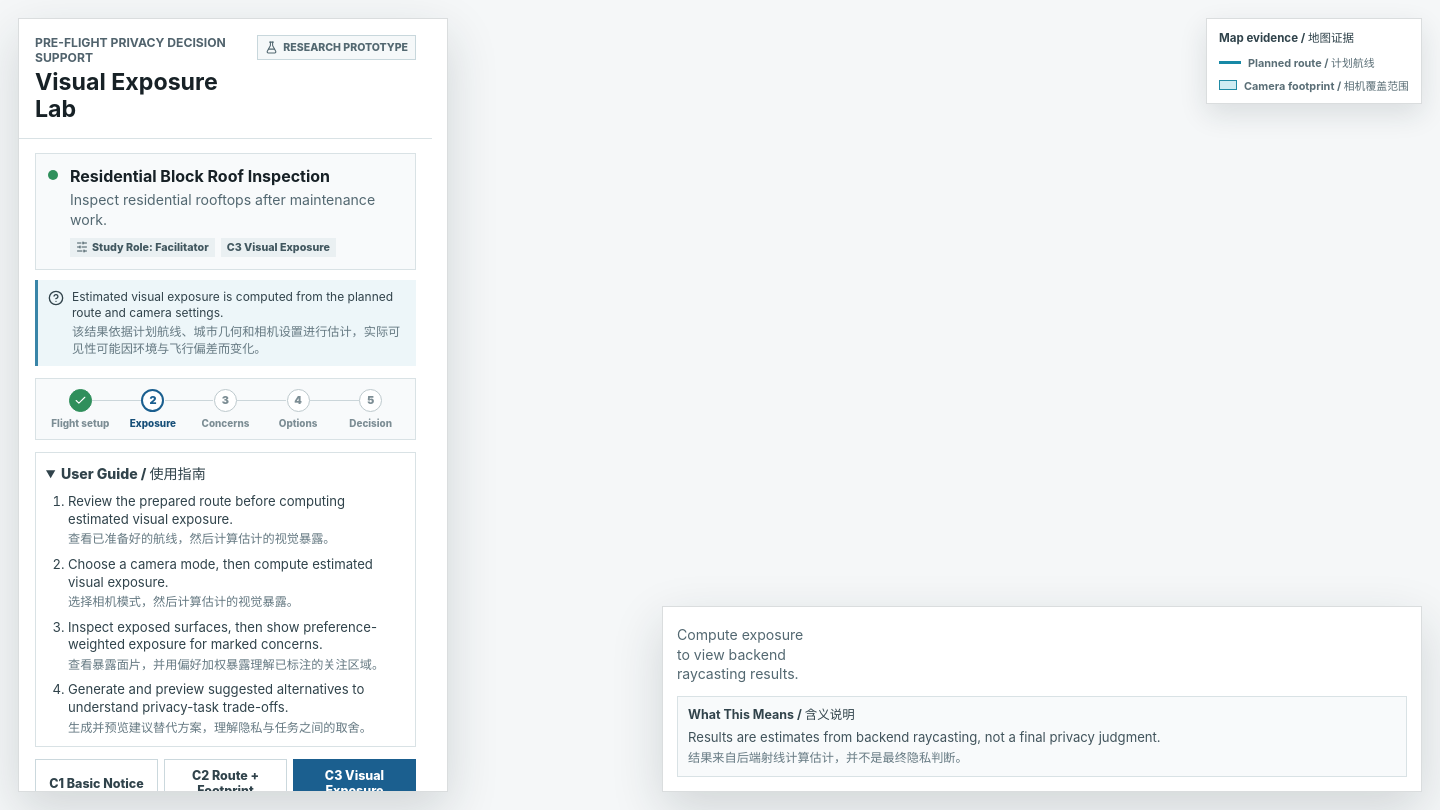
Test: App › switches study conditions and hides visual-exposure controls in C1
Check: the text "Residential Block Roof Inspection" is shown, box [70,166,330,186]
Click the button "C1 Basic Notice".
click(96, 783)  # box [35,759,158,807]
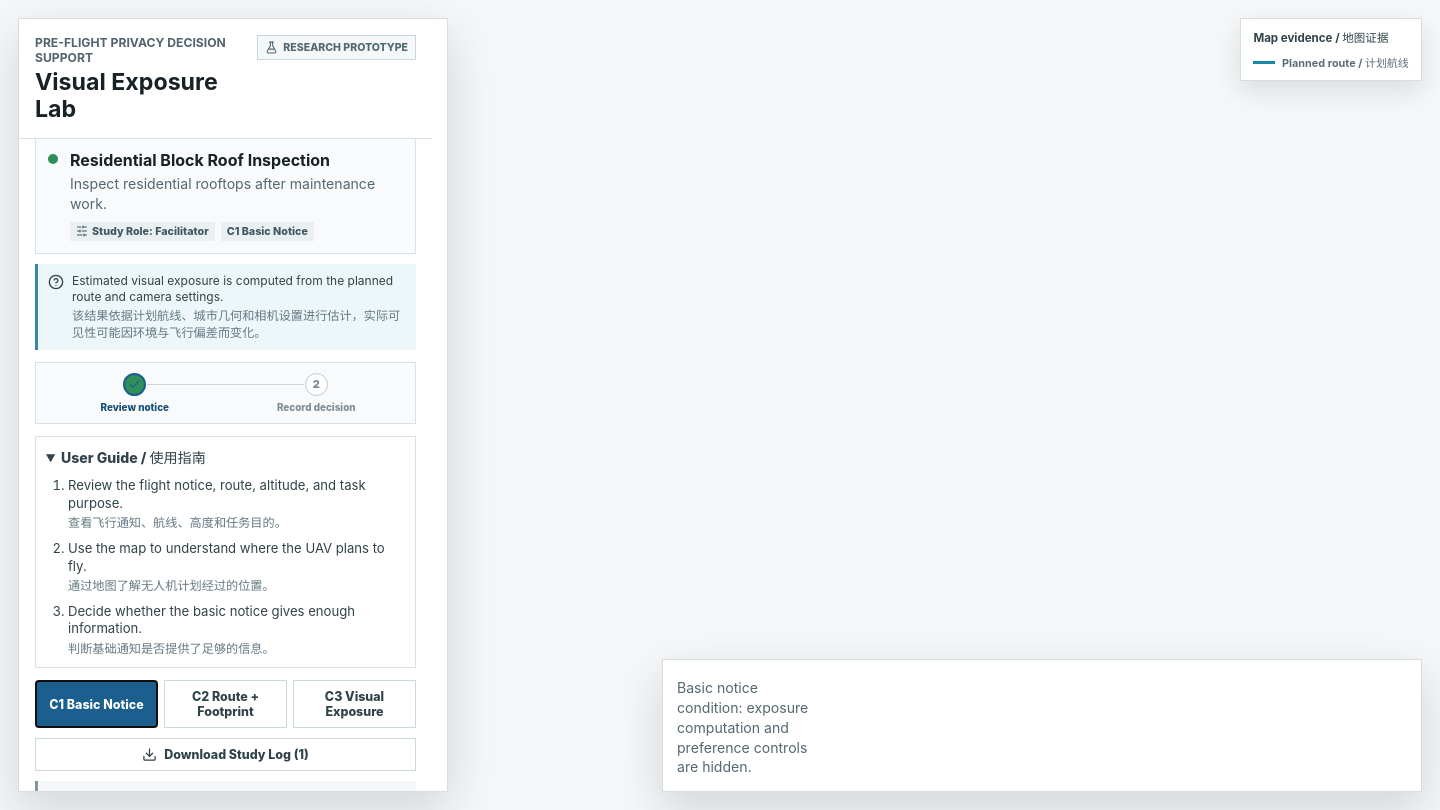
Check: the text "show preference-weighted exposure" is gone
